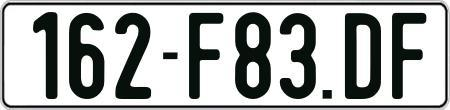1: (30, 9, 54, 98)
2: (115, 11, 155, 102)
3: (279, 10, 321, 97)
6: (67, 11, 107, 102)
8: (235, 12, 275, 105)
D: (344, 12, 380, 102)
F: (186, 10, 225, 101), (392, 13, 428, 105)
